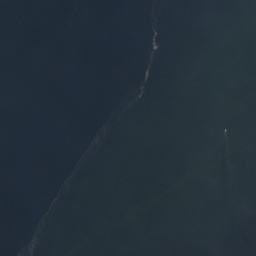Marine Debris: (17, 23, 158, 256)
